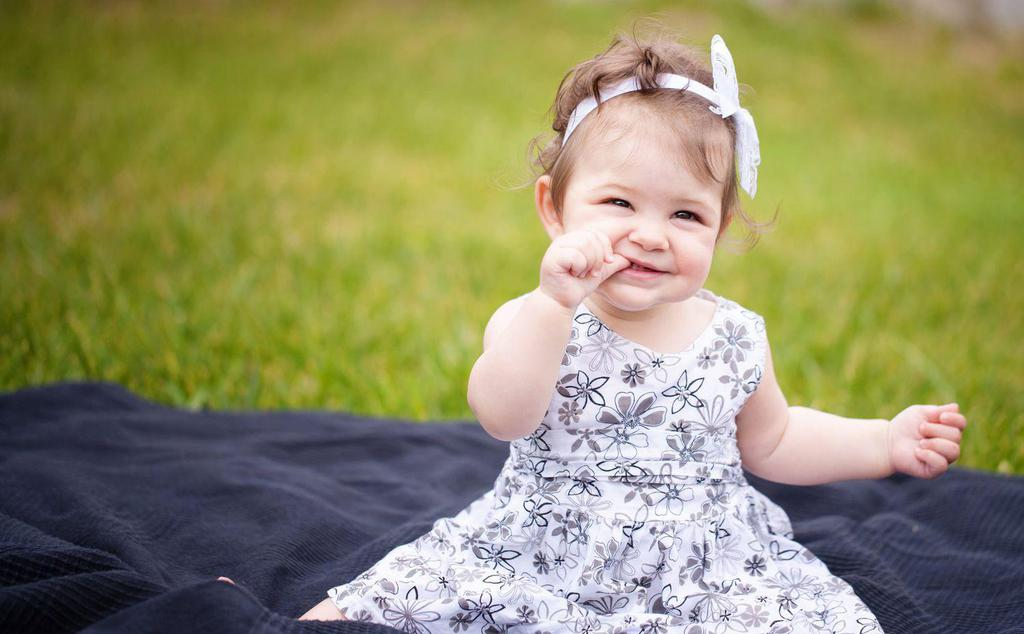child: (404, 30, 939, 634)
